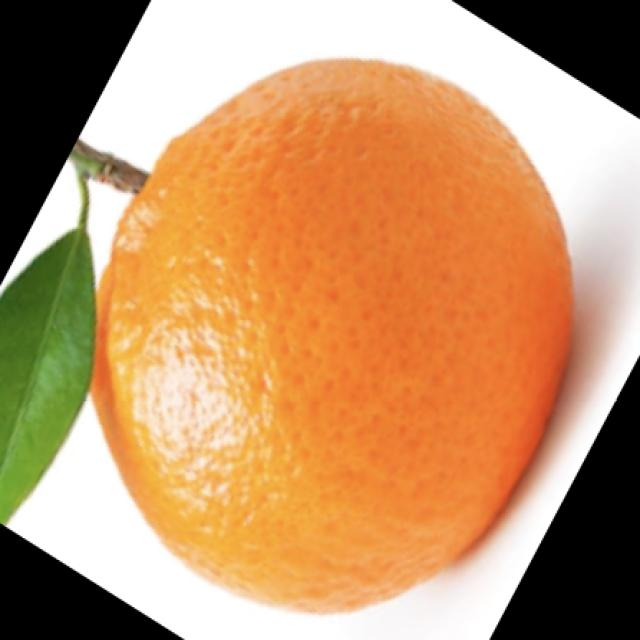matang: (94, 49, 571, 611)
